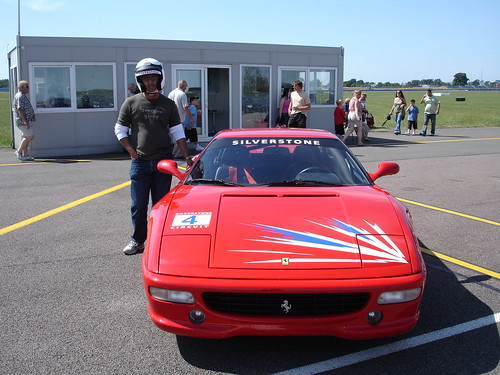helmet: (131, 56, 169, 98)
